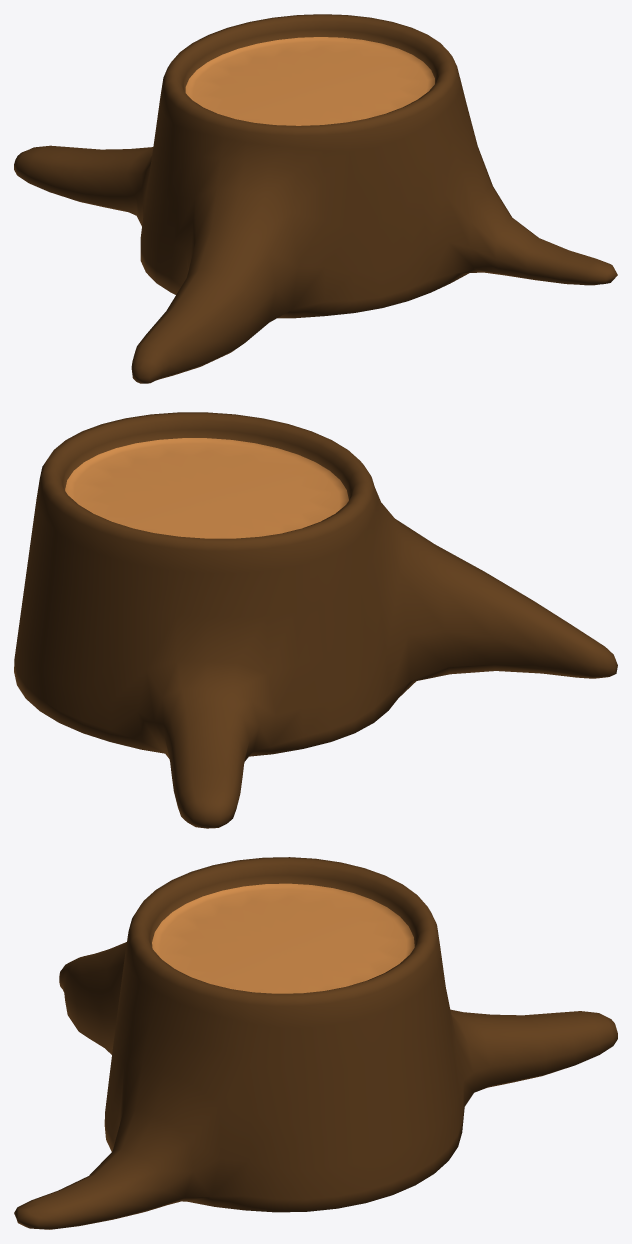
The model's file is Wood.fbx.
3 renders of one model, top to bottom at view 1: azimuth 30°, elevation 25°; view 2: azimuth 150°, elevation 25°; view 3: azimuth 270°, elevation 25°, orthographic. The views are drawn at different scales.
Parts seen in each view (by area): view 1: Wood; view 2: Wood; view 3: Wood.
Part boxes in pixels (left/top/right/bottom): Wood: left=14, top=14, right=617, bottom=383; Wood: left=14, top=412, right=617, bottom=828; Wood: left=14, top=857, right=617, bottom=1229.
Bounding box in the file's own units: 235 × 88.5 × 233.
